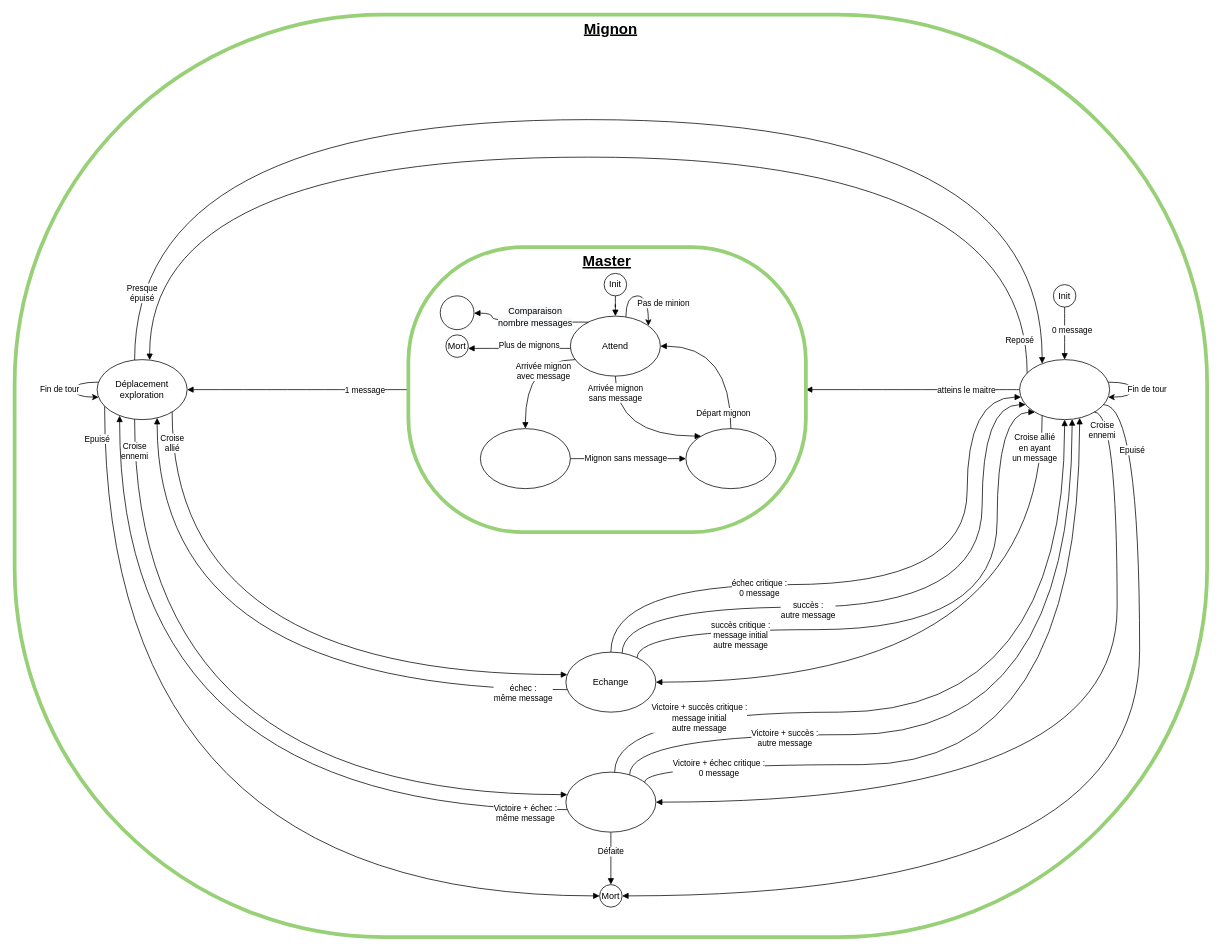
Some shapes in this 1222 by 952 pixel diagram are drawn without their labels. Each missing label, with the centre of its shape:
Collecte message: the point at 525,458
Combat: the point at 610,801
Délivre message: the point at 730,458
Déplacement vers Maitre faction: the point at 1064,389
Fin du jeu: the point at 457,312
